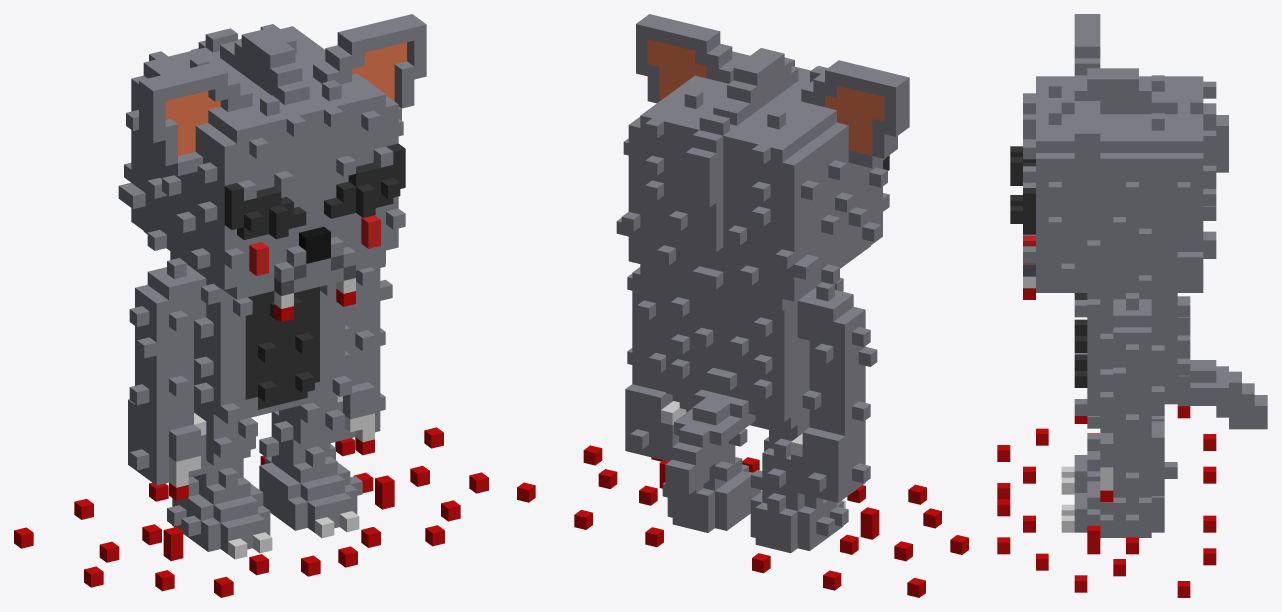
The model's file is asset.glb.
3 views of the same model, side by side, from view 1: azimuth 30°, elevation 25°; view 2: azimuth 150°, elevation 25°; view 3: azimuth 270°, elevation 25° (orthographic). The views are drawn at different scales.
Parts seen in each view (by area): view 1: Cube.1252; view 2: Cube.1252; view 3: Cube.1252.
Part boxes in pixels (bbox=[...]): Cube.1252: bbox=[14, 14, 488, 597]; Cube.1252: bbox=[517, 14, 968, 597]; Cube.1252: bbox=[997, 14, 1267, 597].
Size of the model in its own units: 34 by 37 by 21.
